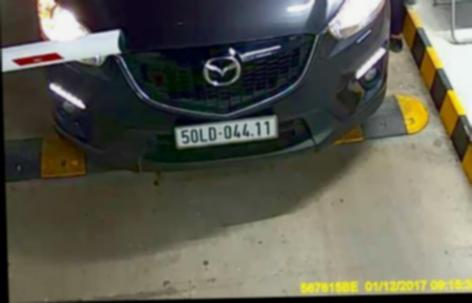License_Plate: (172, 118, 278, 143)
